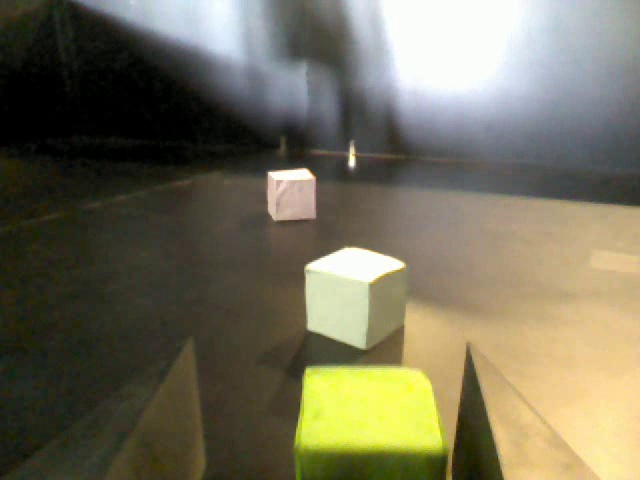cube: (291, 365, 453, 478), (292, 240, 411, 353), (261, 158, 325, 225)
